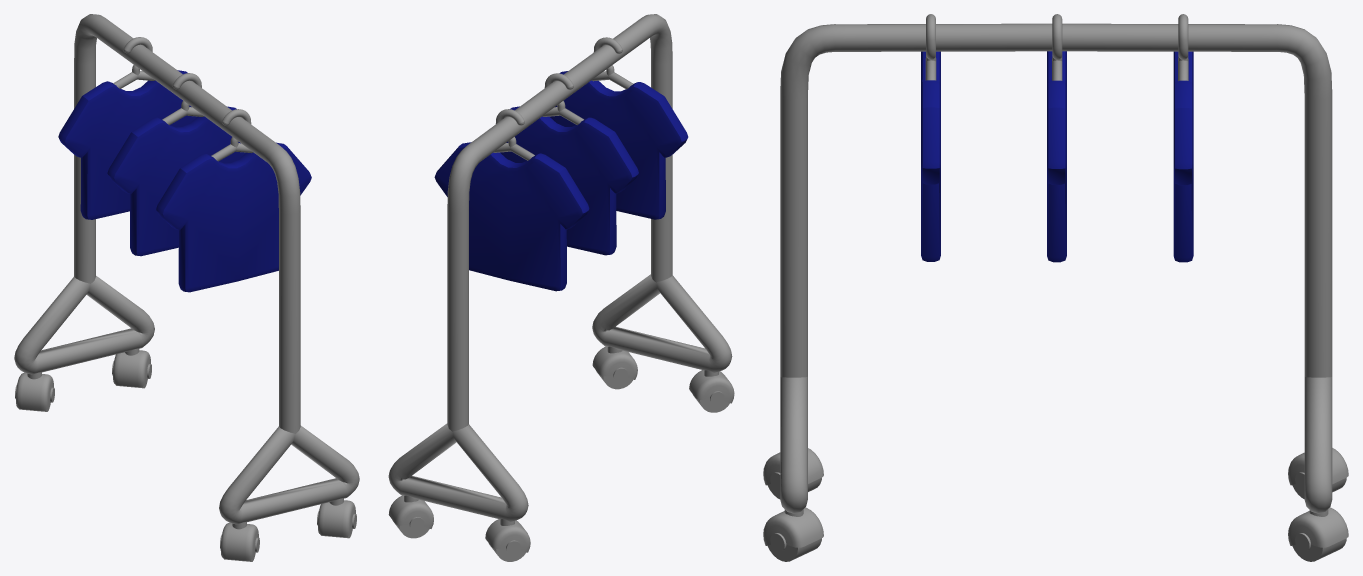
The model's file is 3D_Prop_ClothesRack_TShirts.fbx.
The picture shows the model from 3 angles, left to right: view 1: azimuth 30°, elevation 25°; view 2: azimuth 150°, elevation 25°; view 3: azimuth 270°, elevation 25°; orthographic projection. The views are drawn at different scales.
Parts seen in each view (by area): view 1: Rack; view 2: Rack; view 3: Rack.
Part boxes in pixels (x1,y1,x2,y2): Rack: (14,14,359,561); Rack: (388,14,734,561); Rack: (763,14,1348,561).
Bounding box in the file's own units: 20.07 × 50.17 × 52.22.
